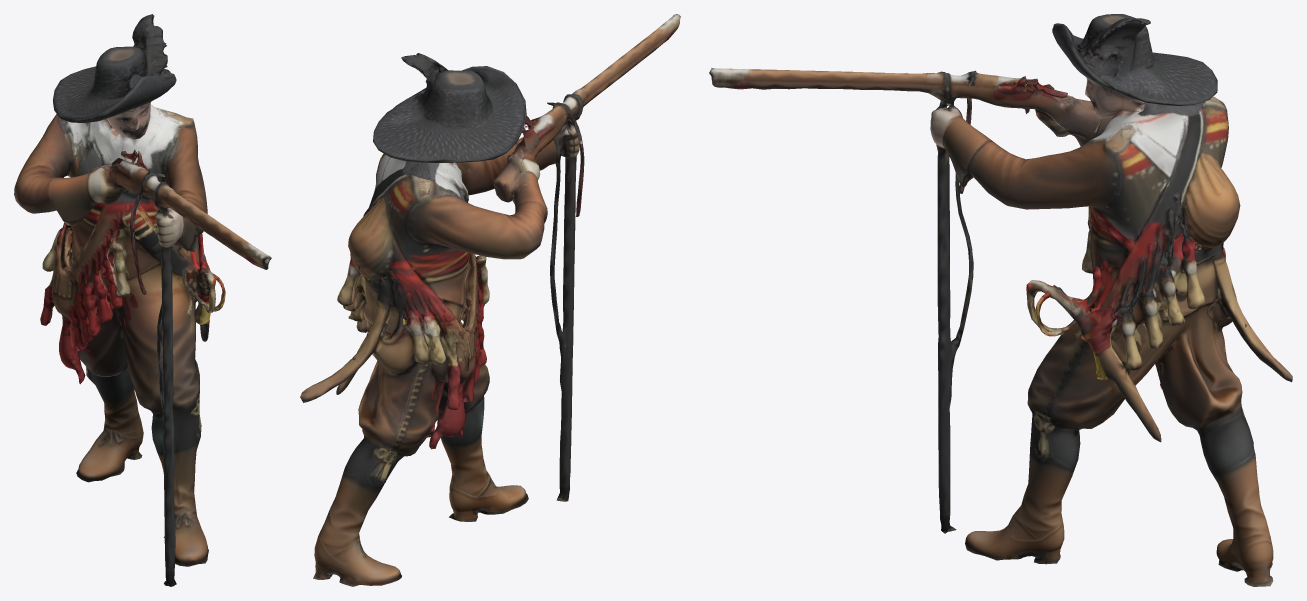
The model's file is MUSKETEER_GER_Atk.glb.
The picture shows the model from 3 angles, left to right: view 1: azimuth 30°, elevation 25°; view 2: azimuth 150°, elevation 25°; view 3: azimuth 270°, elevation 25°; orthographic projection. The views are drawn at different scales.
Parts seen in each view (by area): view 1: Mesh0; view 2: Mesh0; view 3: Mesh0.
Part boxes in pixels (box(x1,y1,x2,y2)): Mesh0: box(14, 14, 271, 586); Mesh0: box(300, 14, 680, 586); Mesh0: box(709, 14, 1292, 586).
Size of the model in its own units: 0.8009 by 1.92 by 1.85.
1 material, 1 textured.
